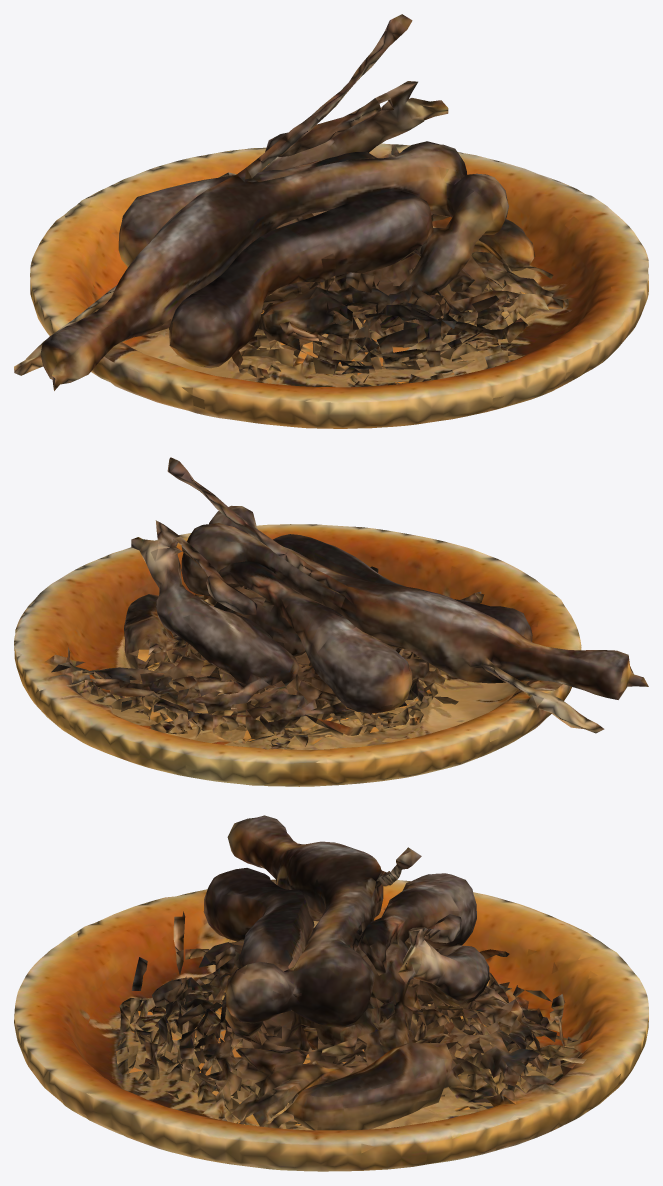
Rendered from ribs.glb.
The picture shows the model from 3 angles, top to bottom: view 1: azimuth 30°, elevation 25°; view 2: azimuth 150°, elevation 25°; view 3: azimuth 270°, elevation 25°; orthographic projection. The views are drawn at different scales.
Visible parts, largest first — view 1: output; view 2: output; view 3: output.
Part boxes in pixels (bbox=[...]): output: bbox=[14, 14, 648, 428]; output: bbox=[14, 457, 648, 786]; output: bbox=[14, 815, 648, 1171].
Bounding box in the file's own units: 1.98 × 0.7906 × 1.76.
1 material, 1 textured.
